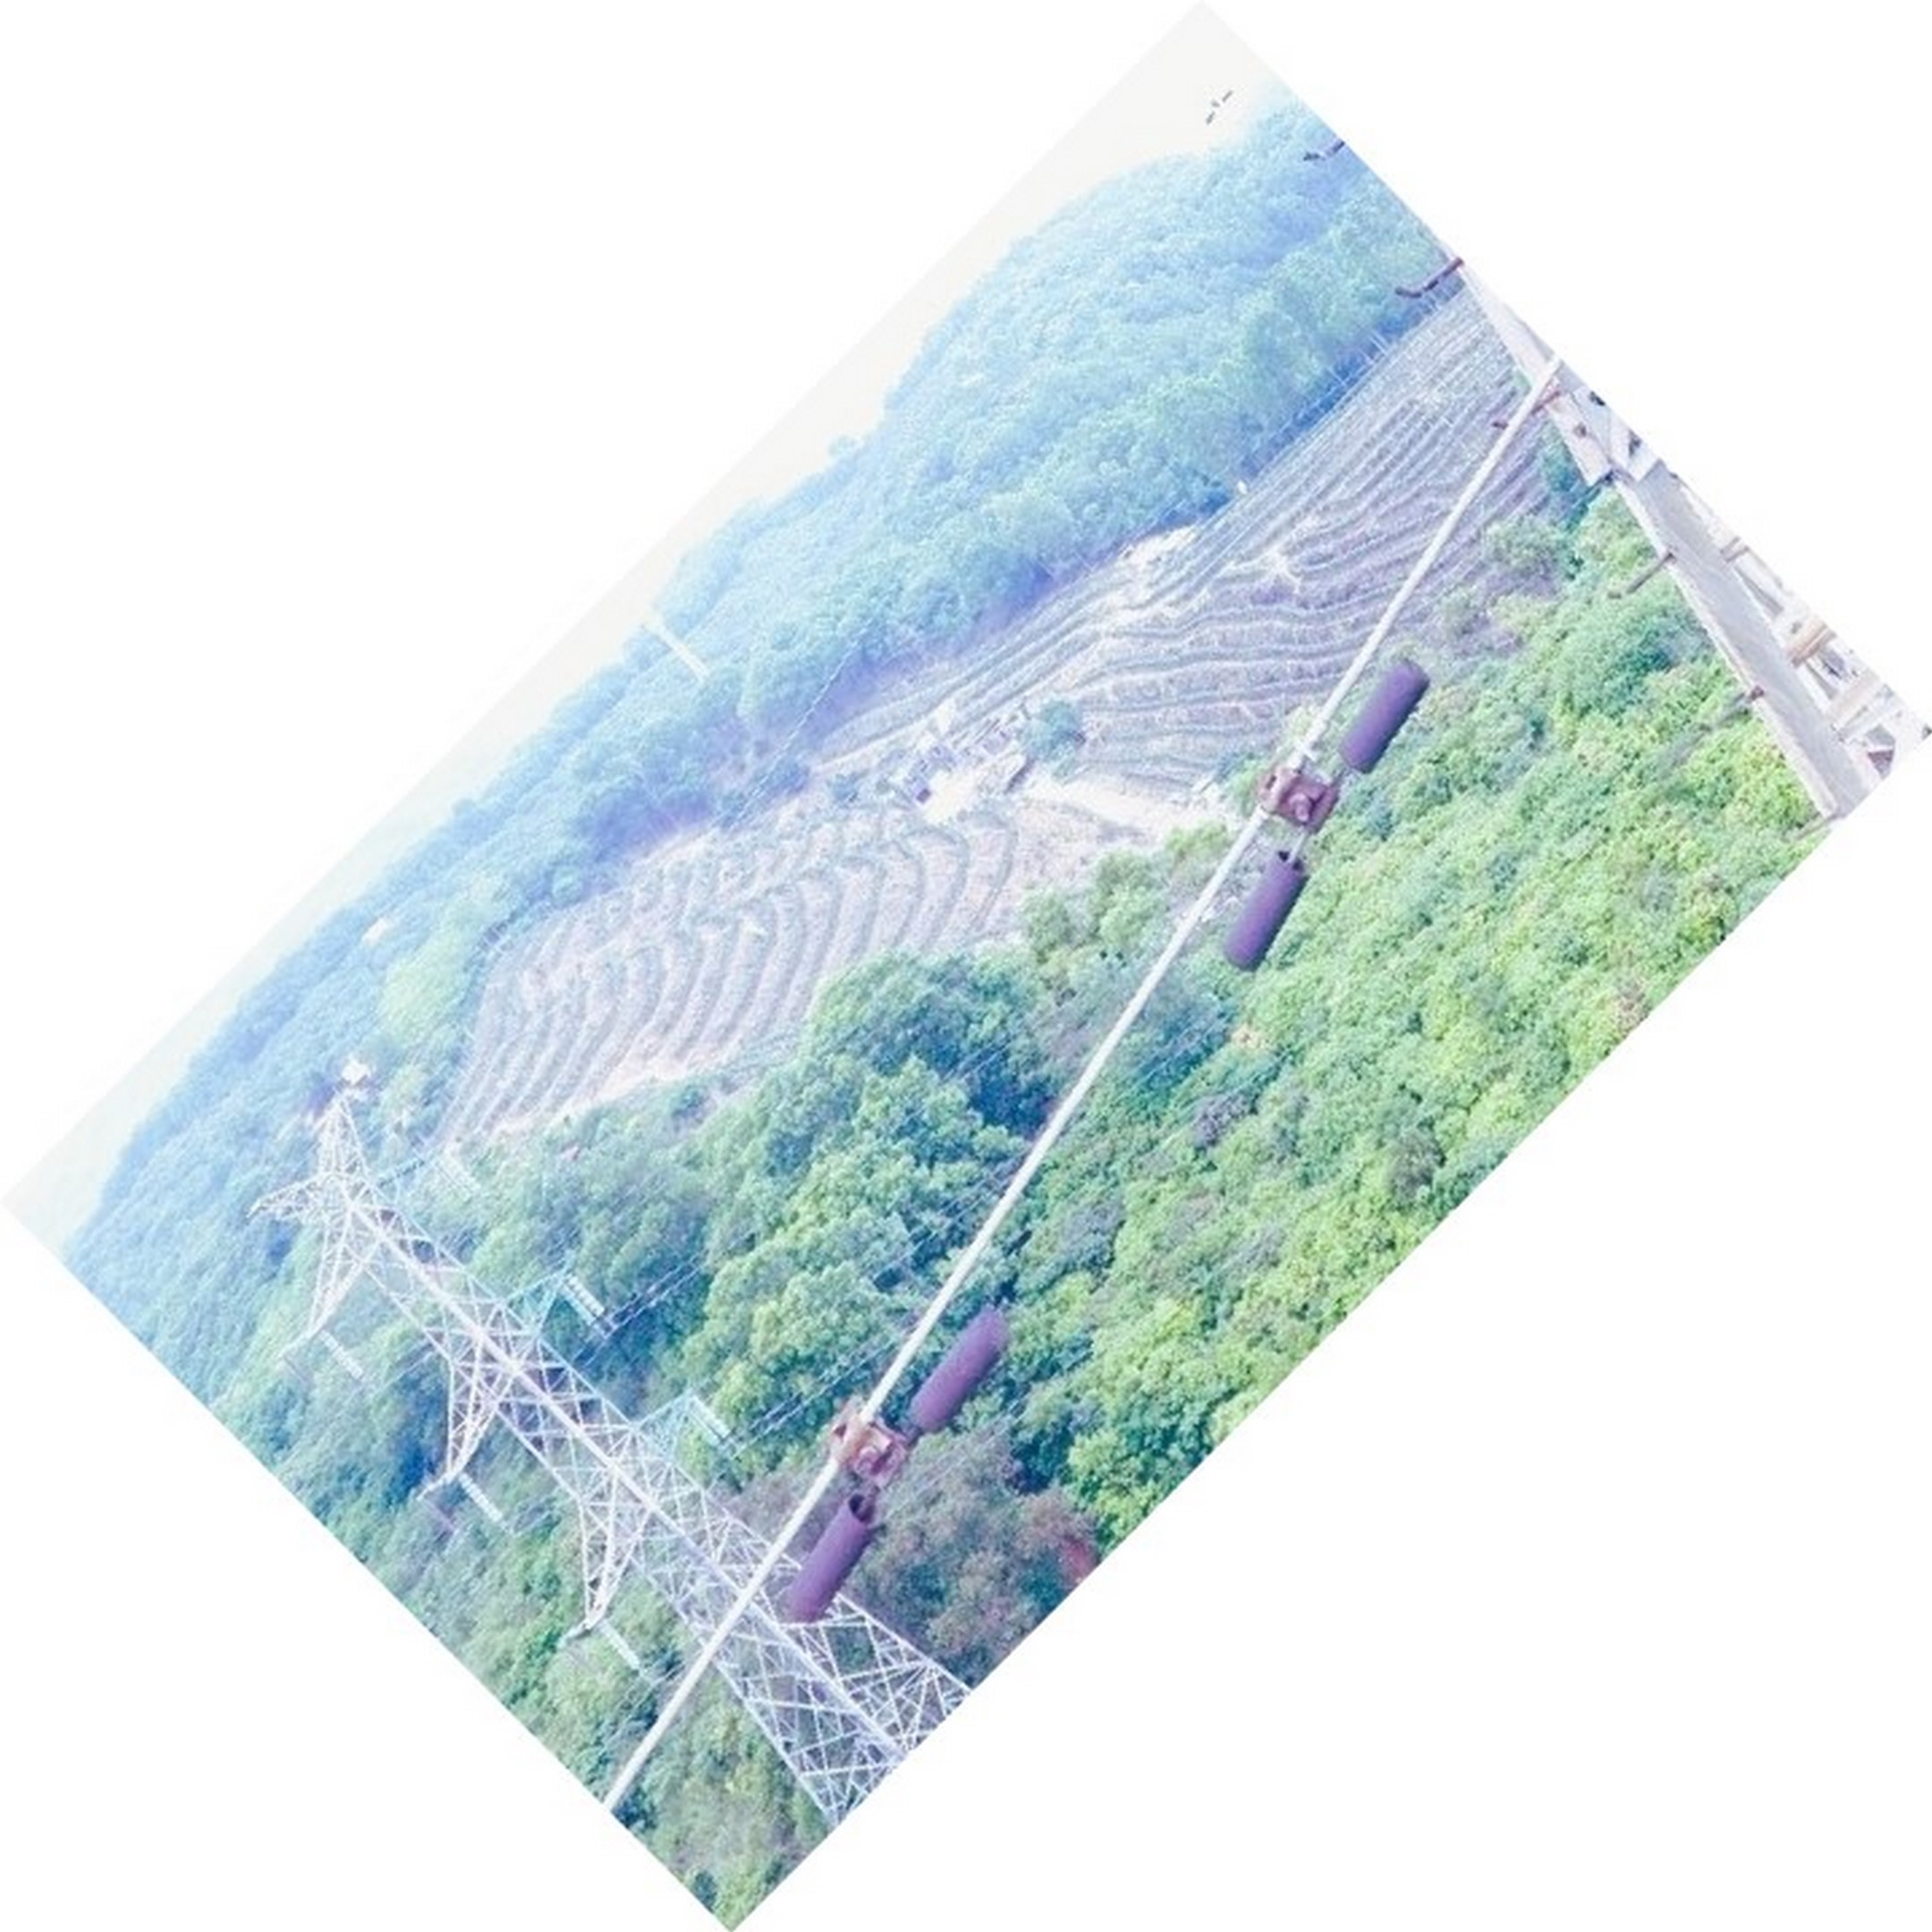Shockproof hammer: (770, 1288, 1035, 1654), (1203, 635, 1456, 996)
